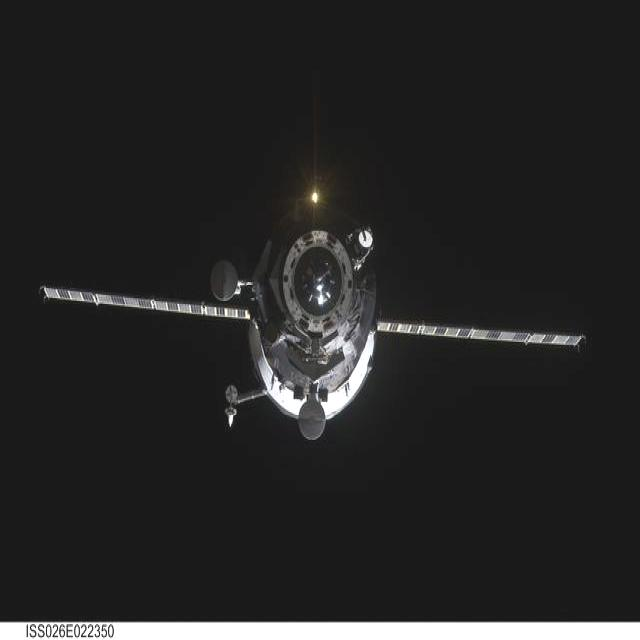satellite: (44, 203, 585, 439)
